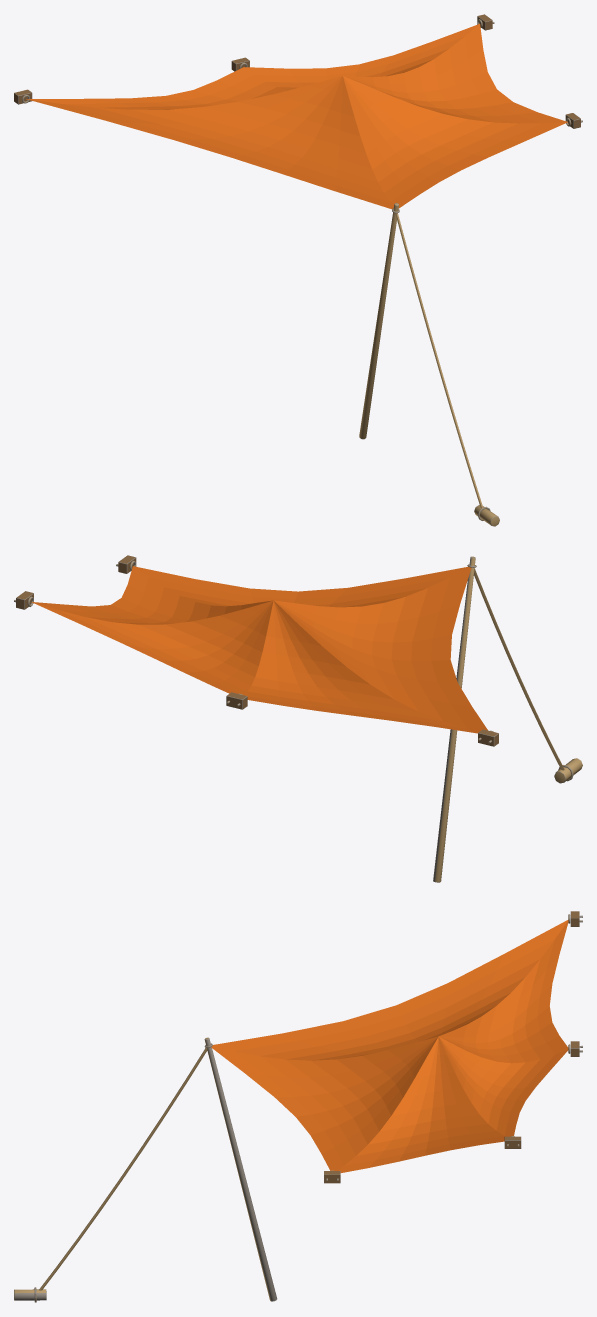
The model's file is nomad_sail_wall_corner.fbx.
The picture shows the model from 3 angles, top to bottom: view 1: azimuth 30°, elevation 25°; view 2: azimuth 150°, elevation 25°; view 3: azimuth 270°, elevation 25°; orthographic projection. The views are drawn at different scales.
Parts seen in each view (by area): view 1: S14_Canopy, S14_Mast_SailRig_MastPole, S14_Guy; view 2: S14_Canopy, S14_Mast_SailRig_MastPole, S14_Guy; view 3: S14_Canopy, S14_Mast_SailRig_MastPole, S14_Guy.
Part boxes in pixels (left/top/right/bottom): S14_Canopy: left=26, top=24, right=567, bottom=209; S14_Mast_SailRig_MastPole: left=359, top=203, right=399, bottom=439; S14_Guy: left=395, top=213, right=482, bottom=507; S14_Canopy: left=31, top=566, right=487, bottom=733; S14_Mast_SailRig_MastPole: left=433, top=556, right=476, bottom=882; S14_Guy: left=474, top=568, right=564, bottom=770; S14_Canopy: left=211, top=920, right=568, bottom=1172; S14_Mast_SailRig_MastPole: left=204, top=1037, right=277, bottom=1301; S14_Guy: left=39, top=1048, right=207, bottom=1290.
Size of the model in its own units: 552 by 342 by 598.
